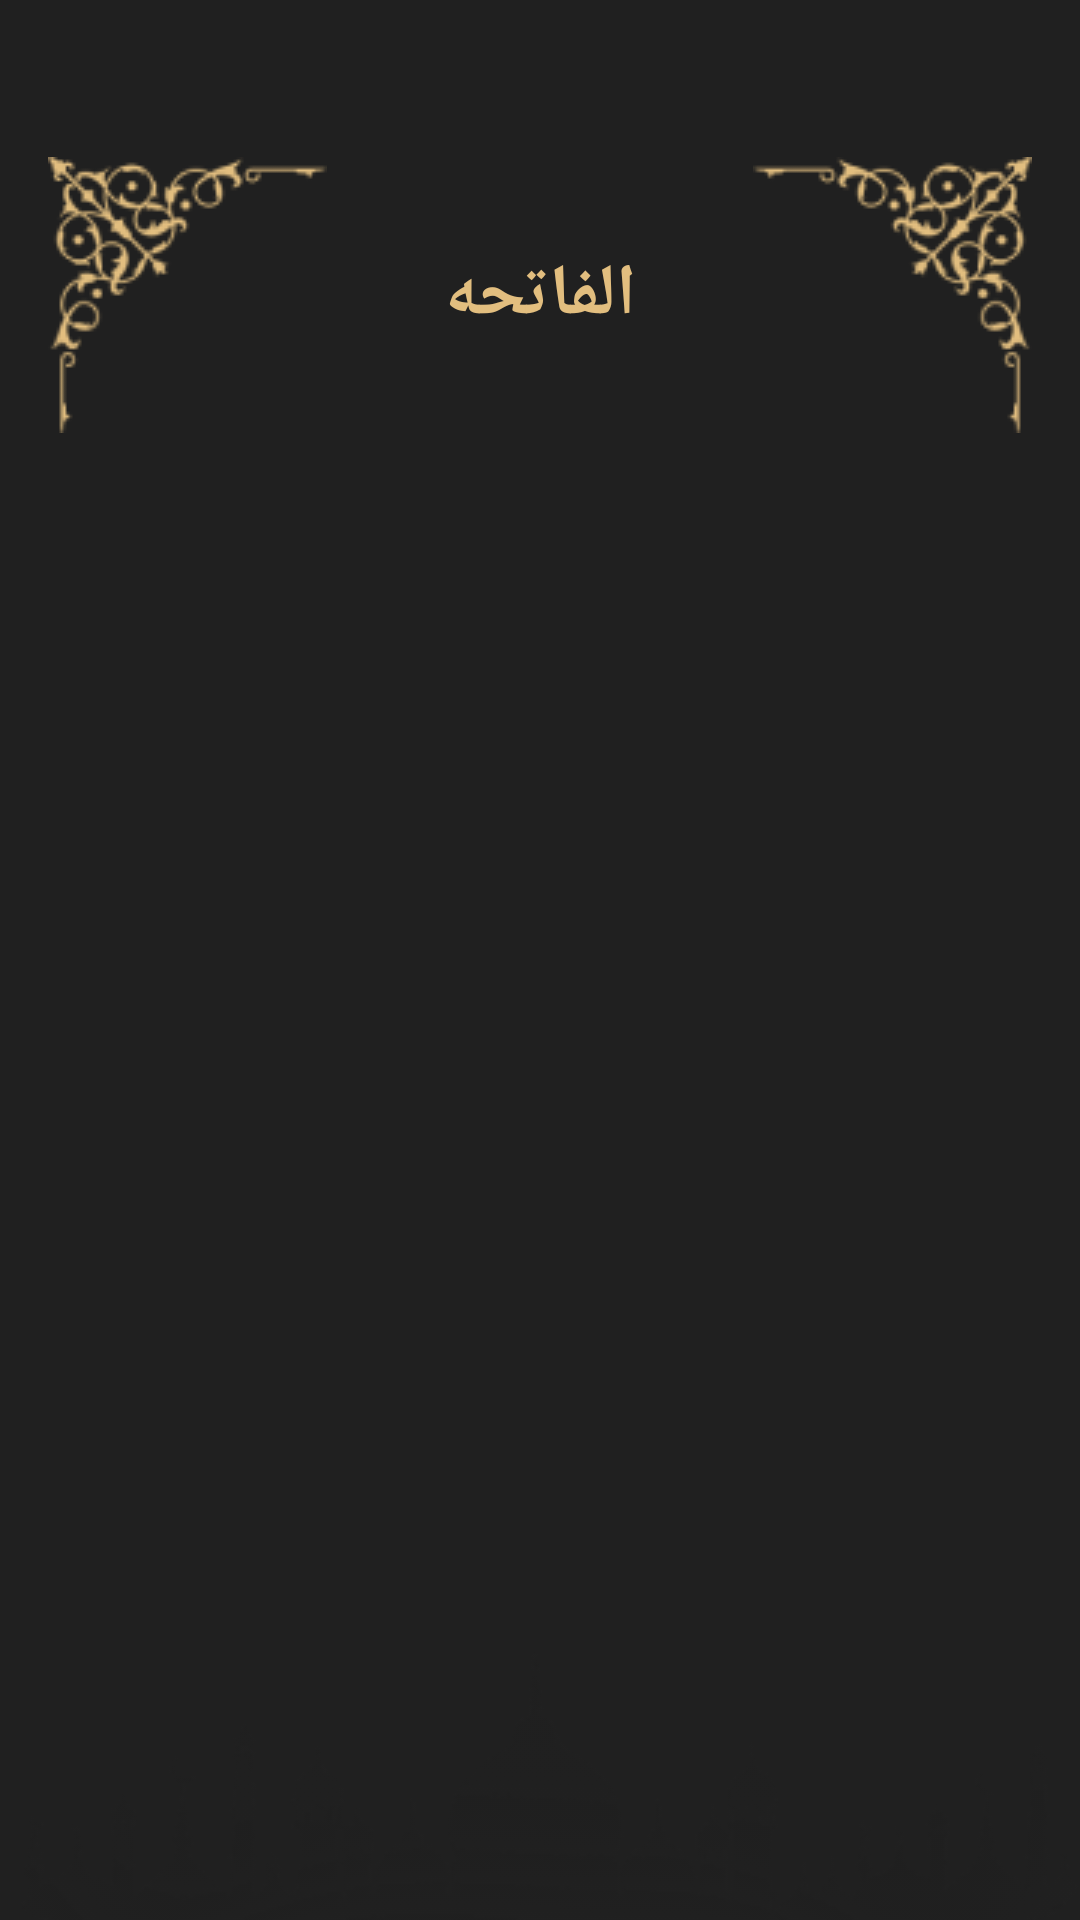

Named icons in this screenshot (1080w x 1920h) and their bounding boxes, [x1,y1,x2,y2]:
left corner: [48,157,325,433]
right corner: [755,157,1032,433]
